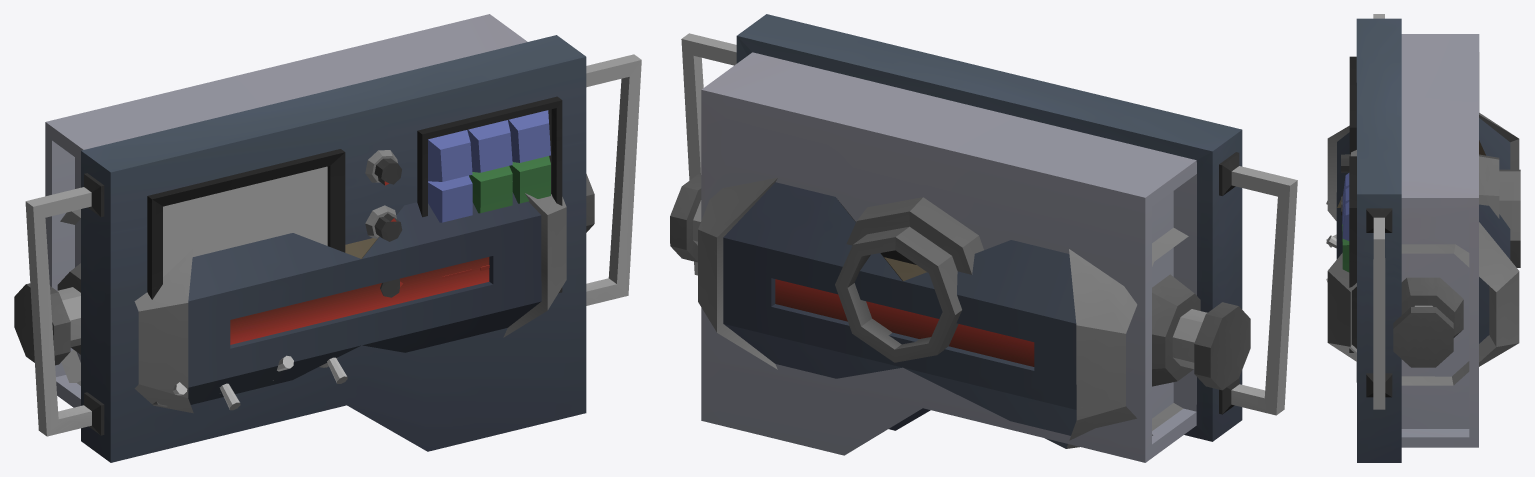
File: Asset_PantallayBateria.fbx
3 renders of one model, left to right at view 1: azimuth 30°, elevation 25°; view 2: azimuth 150°, elevation 25°; view 3: azimuth 270°, elevation 25°, orthographic. The views are drawn at different scales.
Visible parts, largest first — view 1: Panel_Corrupto, Bateria_MiniJuego, Pantalla_Panel; view 2: Panel_Corrupto, Bateria_MiniJuego; view 3: Panel_Corrupto, Bateria_MiniJuego.
Part boxes in pixels (left/top/right/bottom): Panel_Corrupto: left=25, top=14, right=641, bottom=462; Bateria_MiniJuego: left=14, top=174, right=594, bottom=413; Pantalla_Panel: left=163, top=166, right=327, bottom=276; Panel_Corrupto: left=681, top=14, right=1297, bottom=462; Bateria_MiniJuego: left=670, top=174, right=1250, bottom=448; Panel_Corrupto: left=1326, top=14, right=1520, bottom=462; Bateria_MiniJuego: left=1327, top=113, right=1519, bottom=385.
Size of the model in its own units: 0.393 by 0.2201 by 0.1443.
Materials: 2 (1 with a texture image).
